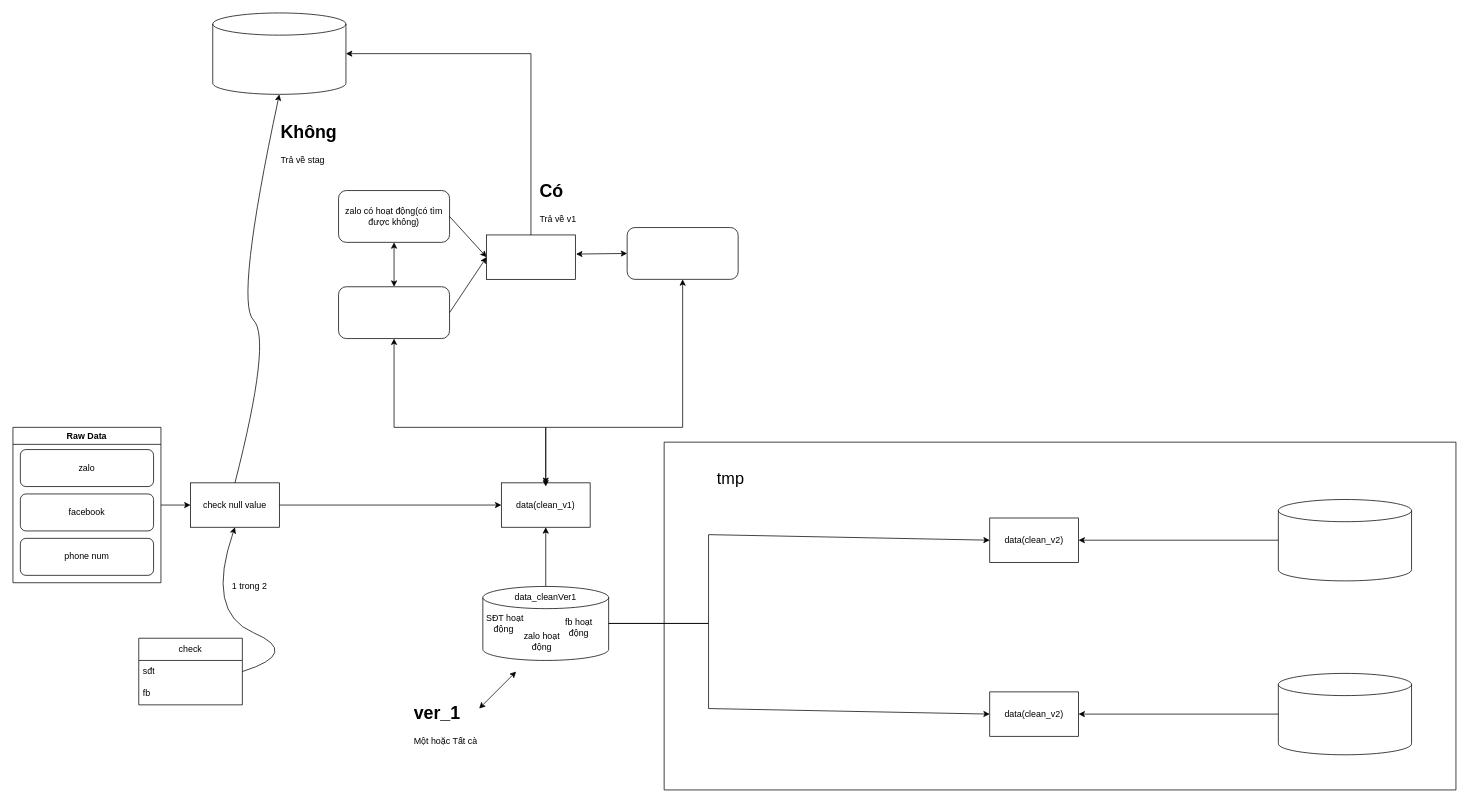
The diagram is 1469 pixels wide and 803 high, and some of its shapes have lost their labels. The shapes that lost their labels are listed below. From the top down, each one's centre as x and y in pixels, then its label:
the point at 279,53: Data Staging
the point at 530,256: đang có hoặc có thể tìm lại bằng các col khác kh
the point at 682,253: fb có hoạt động không
the point at 394,312: sdt có hoạt động kh
